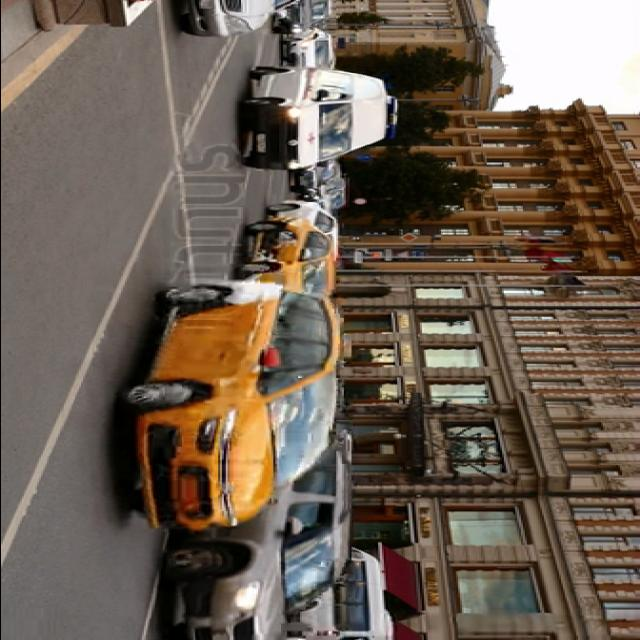ambulance: (236, 63, 398, 175)
